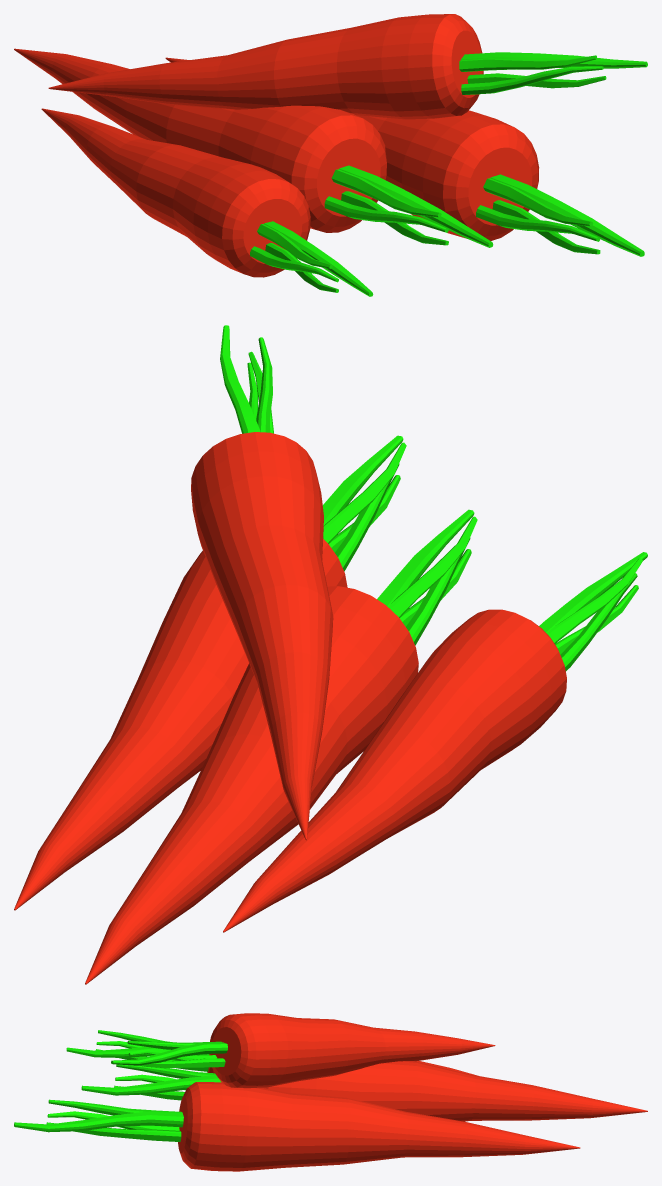
Rendered from Carrot.obj.
The picture shows the model from 3 angles, top to bottom: view 1: azimuth 30°, elevation 25°; view 2: azimuth 150°, elevation 25°; view 3: azimuth 270°, elevation 25°; orthographic projection. The views are drawn at different scales.
Parts seen in each view (by area): view 1: Cylinder006, Cylinder004, Cylinder003, Cylinder005, Box20186, Box20190, Box20184, Box20188, Box20191, Box20194, Box20192, Box20183 (+8 smaller); view 2: Cylinder003, Cylinder004, Cylinder006, Cylinder005, Box20186, Box20190, Box20183, Box20187, Box20194, Box20179, Box20182, Box20188 (+3 smaller); view 3: Cylinder005, Cylinder006, Cylinder004, Box20190, Box20186, Box20194, Box20189, Box20187, Box20179, Box20193, Box20183, Box20188 (+5 smaller).
Part boxes in pixels (x1,y1,x2,y2): Cylinder006: [48, 14, 483, 119]; Cylinder004: [14, 48, 386, 232]; Cylinder003: [41, 108, 310, 277]; Cylinder005: [165, 57, 539, 240]; Box20186: [339, 165, 493, 247]; Box20190: [490, 174, 644, 256]; Box20184: [324, 196, 448, 232]; Box20188: [476, 205, 600, 241]; Box20191: [459, 55, 596, 71]; Box20194: [461, 52, 647, 68]; Box20192: [461, 66, 603, 94]; Box20183: [331, 169, 441, 217]; Cylinder003: [223, 609, 566, 932]; Cylinder004: [85, 586, 418, 984]; Cylinder006: [191, 432, 333, 840]; Cylinder005: [14, 539, 347, 910]; Box20186: [377, 509, 474, 606]; Box20190: [322, 435, 403, 525]; Box20183: [388, 516, 477, 617]; Box20187: [323, 442, 406, 543]; Box20194: [220, 325, 260, 433]; Box20179: [539, 552, 647, 632]; Box20182: [546, 558, 642, 643]; Box20188: [335, 463, 399, 571]; Cylinder005: [178, 1082, 580, 1171]; Cylinder006: [209, 1013, 495, 1088]; Cylinder004: [262, 1061, 647, 1121]; Box20190: [14, 1111, 183, 1132]; Box20186: [81, 1075, 221, 1095]; Box20194: [111, 1042, 227, 1065]; Box20189: [46, 1122, 181, 1141]; Box20187: [48, 1099, 182, 1115]; Box20179: [66, 1047, 209, 1057]; Box20193: [140, 1058, 225, 1068]; Box20183: [116, 1064, 215, 1078]; Box20188: [47, 1111, 179, 1130].
Bounding box in the file's own units: 456 × 261 × 988.
